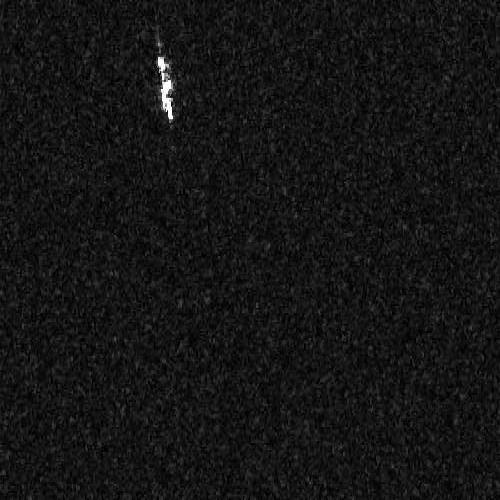ship: (155, 51, 175, 124)
